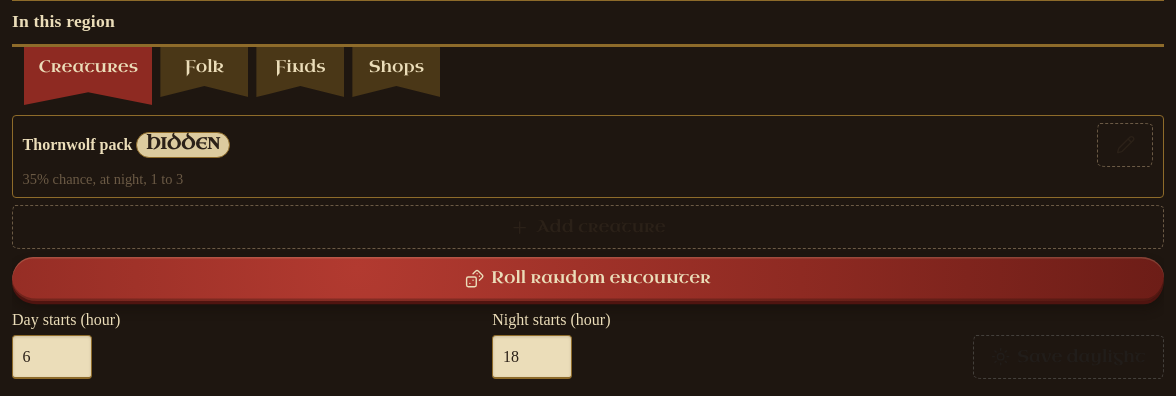
Scenario: region content (P3-2) › lists each tab with the state tag, DC and spawn rule
The image size is (1176, 396).
Expected: the text "HIDDEN" is shown, [136,132,230,158]
Expected: the list item "Thornwolf pack" shows "35% chance, at night, 1 to 3", [23,171,183,187]
Click the tab "Folk": (204, 72) [160,47,248,97]
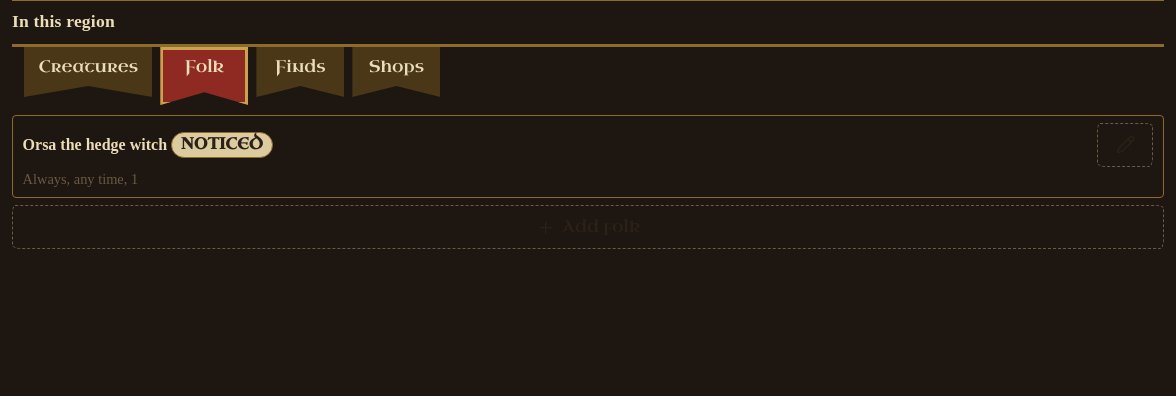
Result: the text "NOTICED" is shown at [171,132,273,158]
Click the tab "Finds": (300, 72) [256,47,344,97]
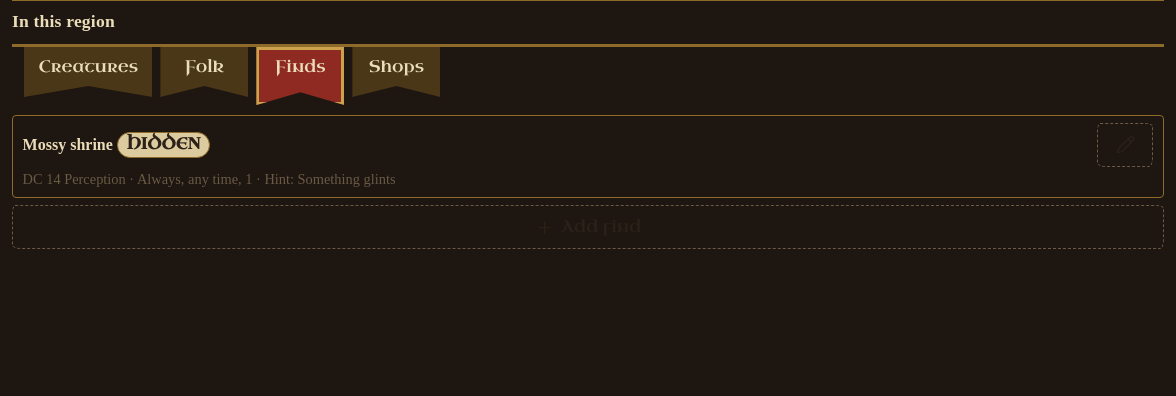
Result: the list item "Mossy shrine" shows "DC 14 Perception" at [23,171,396,187]
Result: the list item "Mossy shrine" shows "Hint: Something glints" at [23,171,396,187]
Click the tab "Shops": (396, 72) [352,47,440,97]
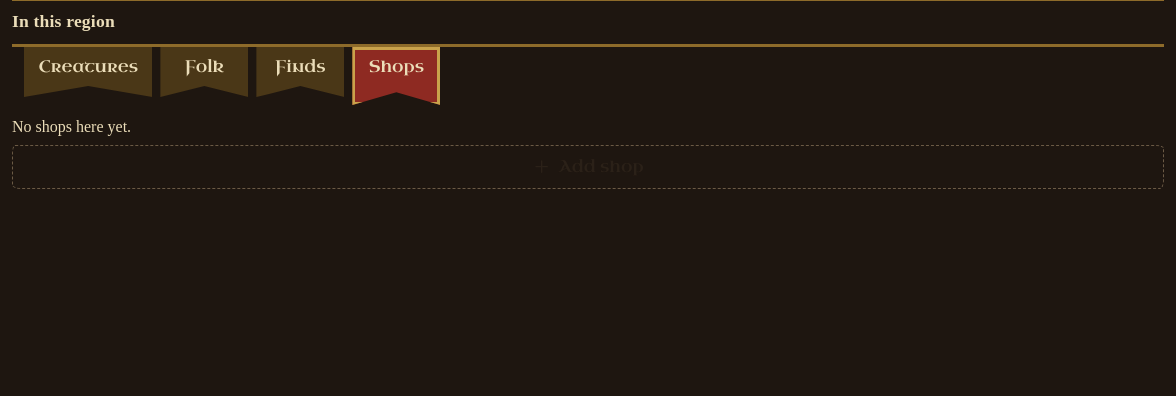
Result: the text "No shops here yet." is shown at [12,118,131,135]
